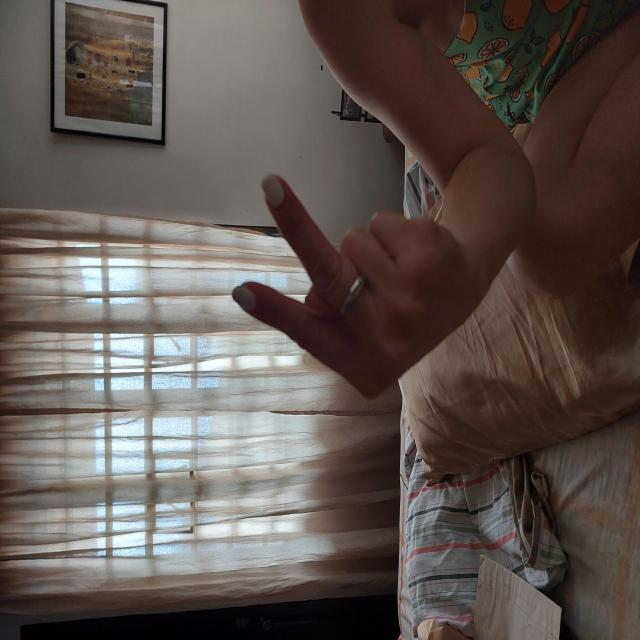K: (238, 224, 471, 470)
